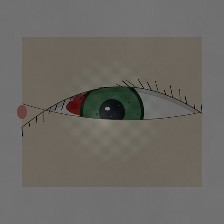hemorrhage_spot: (54, 74, 138, 140)
